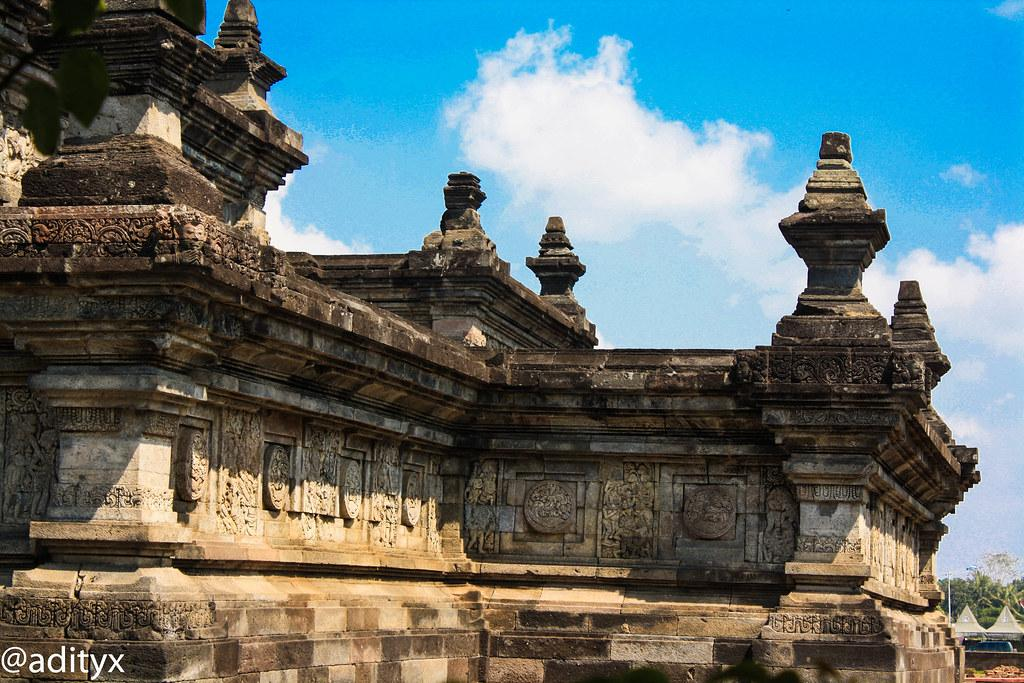temple: (2, 1, 983, 682)
